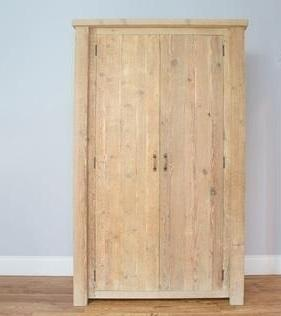Armario: (67, 7, 250, 304)
